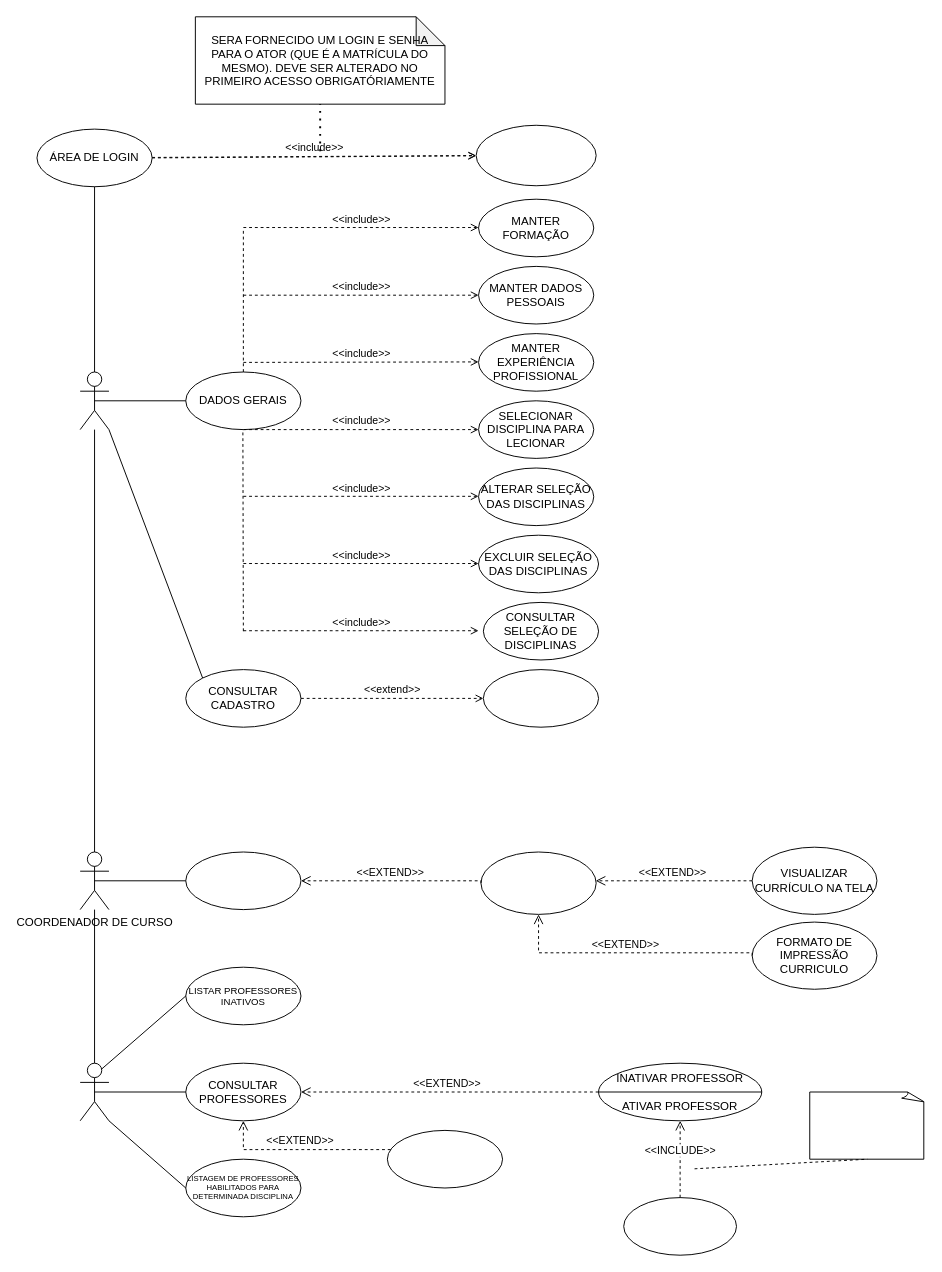
Image size: 942x1272. Some labels were removed from this diagram. The shapes that lost their labels are listed below. From the top down, each one's centre as x and y in pixels, then its label:
At (x=535, y=155): "TROCAR SENHA PADRÃO".
At (x=94, y=400): "PROFESSOR".
At (x=540, y=698): "EXCLUIR SELEÇÃO".
At (x=243, y=880): "LISTAR PROFESSORES ATIVOS".
At (x=538, y=882): "GERAR CURRÍCULO".
At (x=94, y=1091): "DIRETOR DA IES".
At (x=867, y=1125): "OBRIGATÓRIO INFORMAR O MOTIVO".
At (x=444, y=1158): "EXCLUIR PROFESSOR".
At (x=680, y=1226): "MOTIVO".
